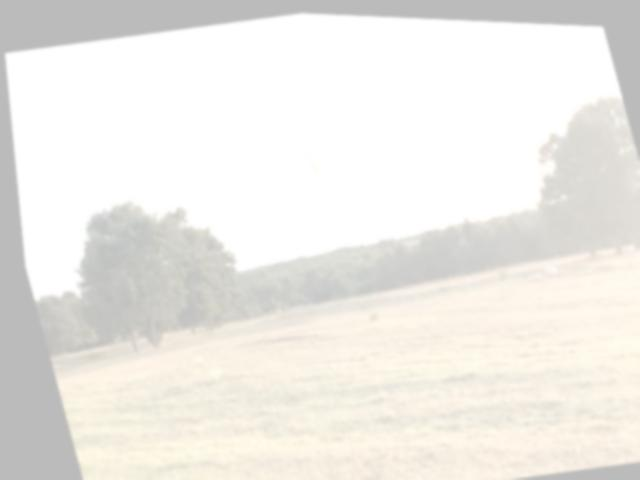uav: (292, 145, 320, 181)
